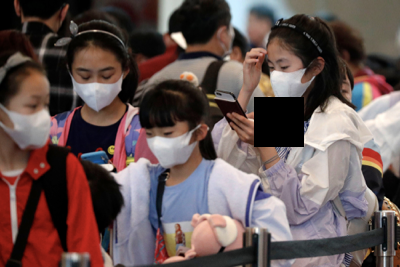with_mask: (142, 117, 197, 167), (71, 60, 122, 111), (11, 89, 53, 149), (265, 53, 310, 104)
